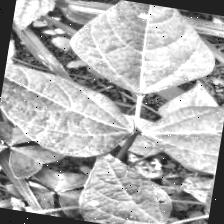Bean Rust: (63, 0, 222, 104), (76, 150, 180, 224), (142, 91, 224, 170)
